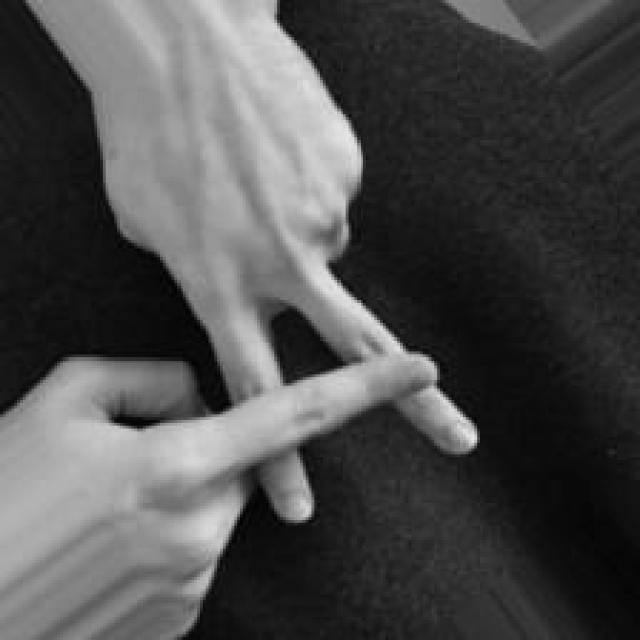A: (1, 0, 498, 541)
